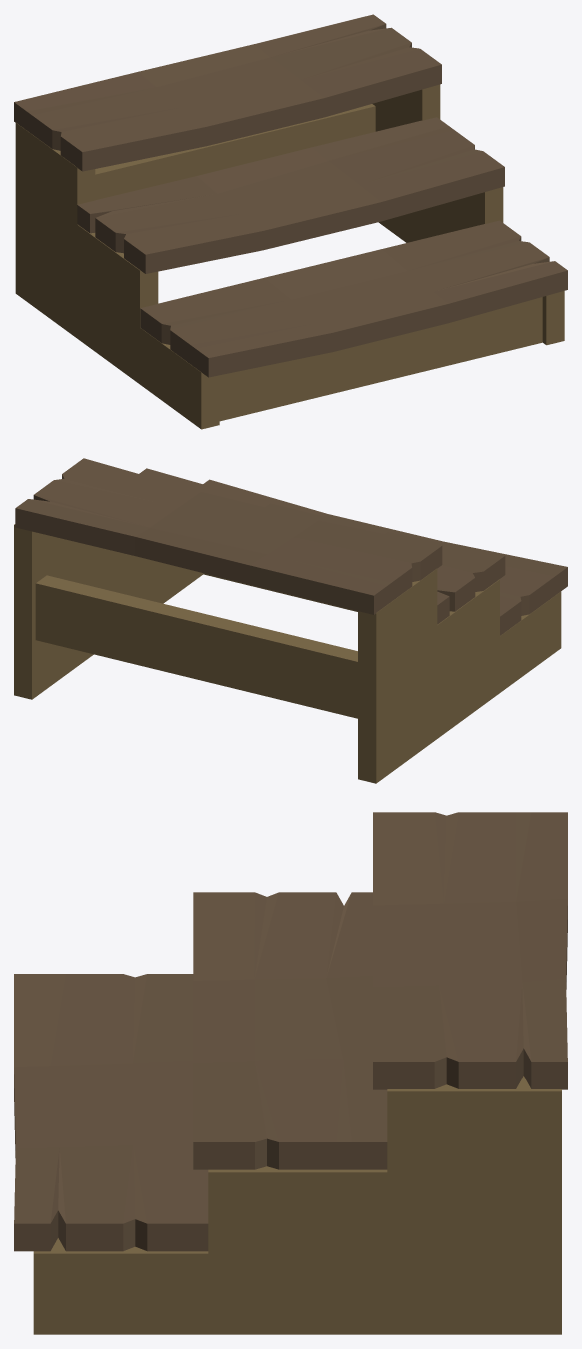
File: wood_steps.gltf
The picture shows the model from 3 angles, top to bottom: view 1: azimuth 30°, elevation 25°; view 2: azimuth 150°, elevation 25°; view 3: azimuth 270°, elevation 25°; orthographic projection. The views are drawn at different scales.
Parts seen in each view (by area): view 1: Steps_Small; view 2: Steps_Small; view 3: Steps_Small.
Part boxes in pixels (x1,y1,x2,y2): Steps_Small: (14, 14, 567, 429); Steps_Small: (14, 458, 567, 783); Steps_Small: (14, 812, 567, 1334).
Size of the model in its own units: 2 by 0.9999 by 1.86.
1 material, 1 textured.
